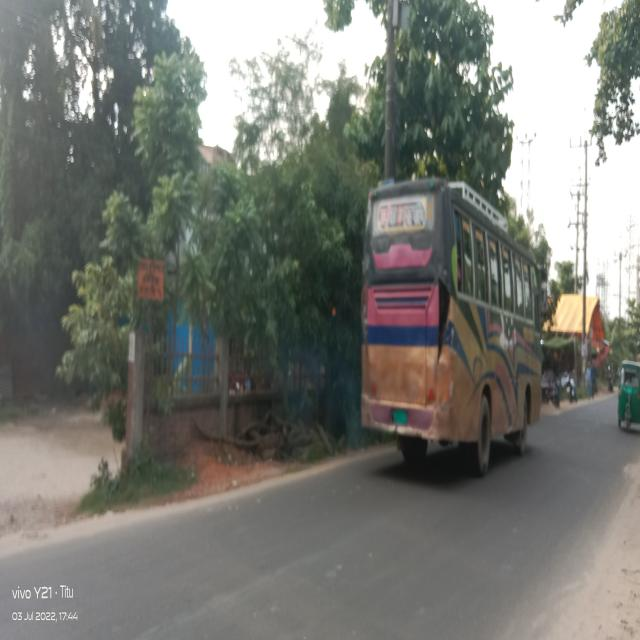bus: (362, 159, 547, 482)
